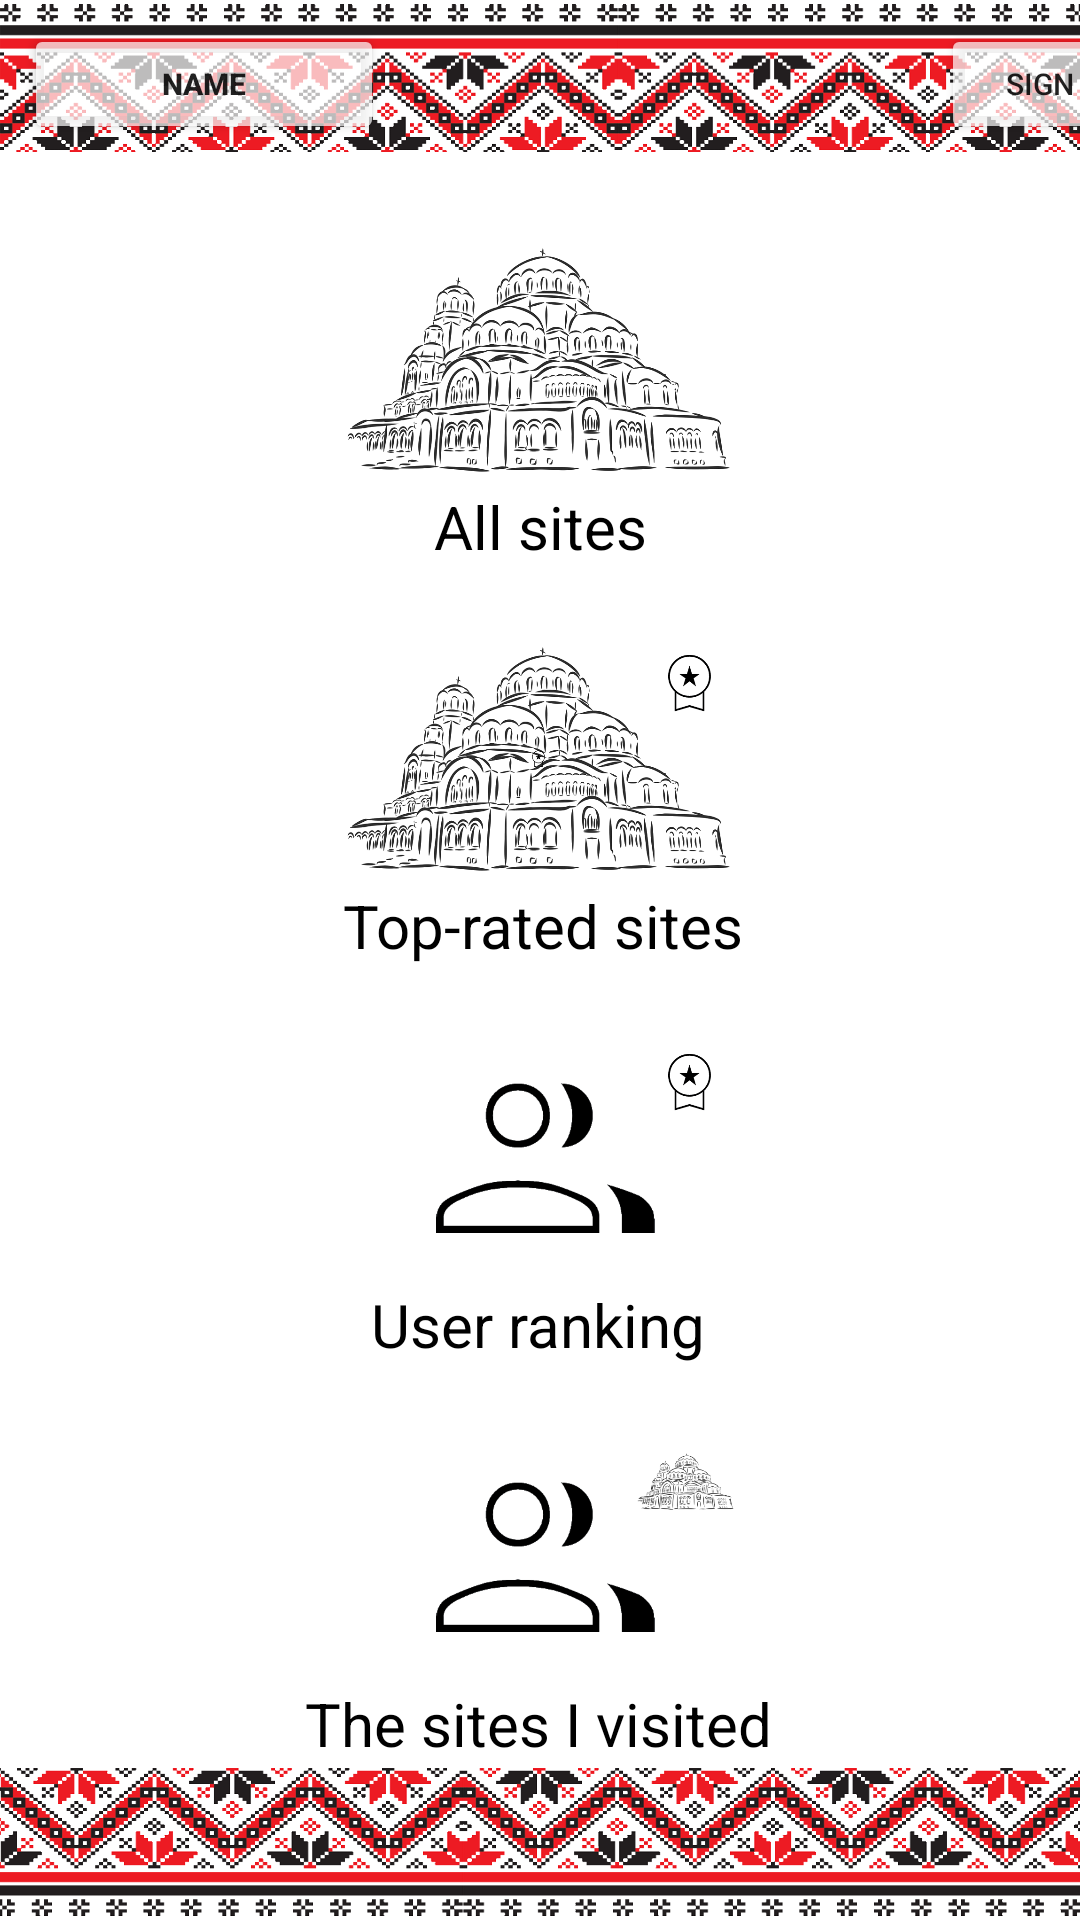

Where icons sit on this 1080 × 1920 app screen, as [x1, y1, x2, y2]:
user medal: [436, 1054, 711, 1233]
user nevski: [436, 1453, 734, 1632]
